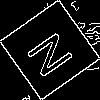N: (24, 24, 83, 80)
